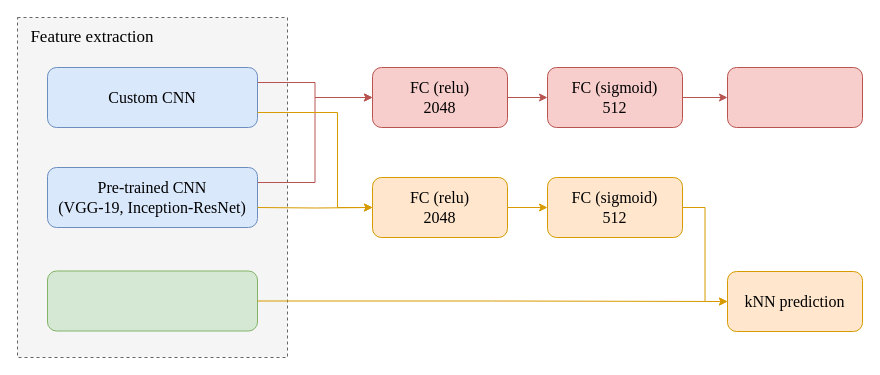
This 880x375 diagram has some shape labels left out. Here are the shapes that lost their labels. From the top down, the box of each, then its label:
(726, 66, 862, 128): FC 2
(46, 270, 258, 331): Keypoint detection (SIFT, SURF, ORB)
